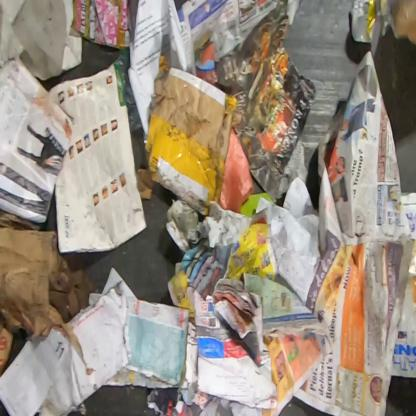cardboard: (136, 55, 238, 216), (0, 209, 88, 378)
metal: (349, 0, 378, 44)
soft_plastic: (69, 0, 138, 50), (220, 127, 254, 214)
